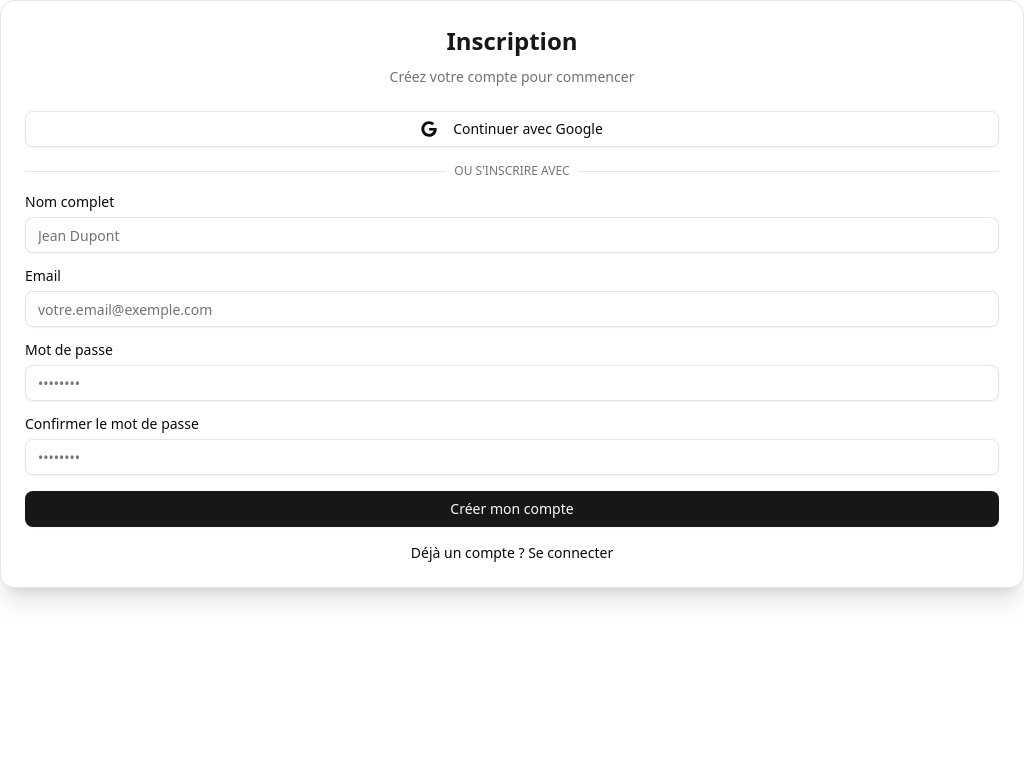
Test: SignupForm › valide les champs requis
This screenshot has width=1024, height=768.
What coordinates should you click on to do the following:
click the submit button
I would click on:
 (512, 509)
Its box is [25,491,999,527].
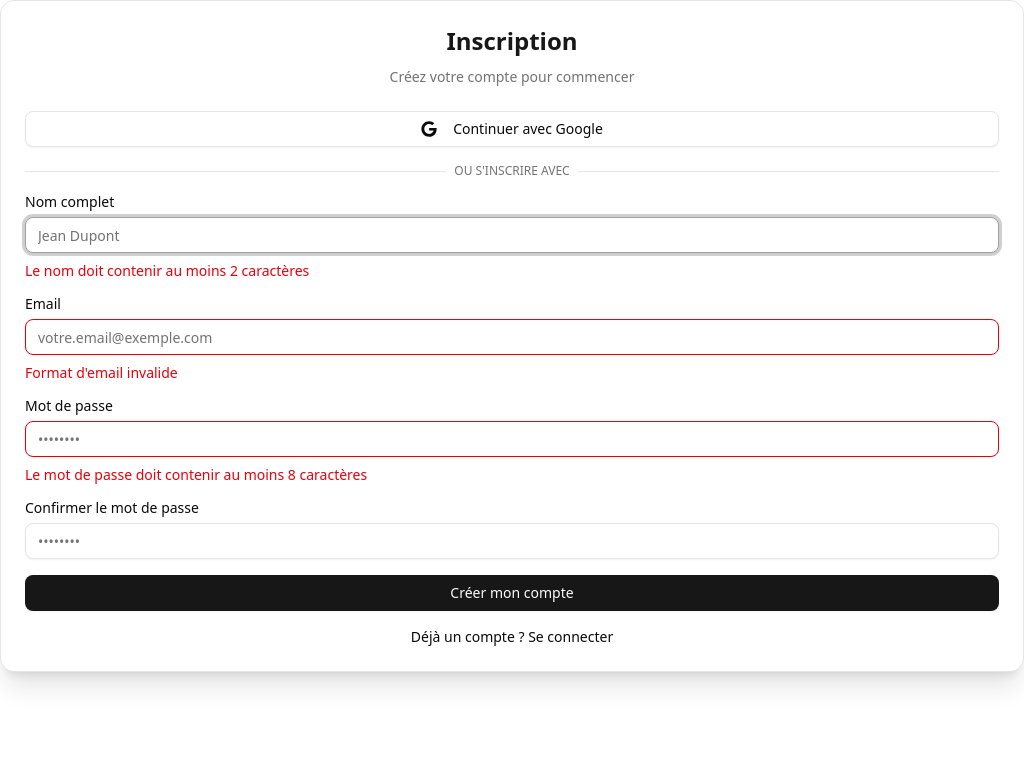
Result: the text "caractères" is shown at [25,261,309,280]
